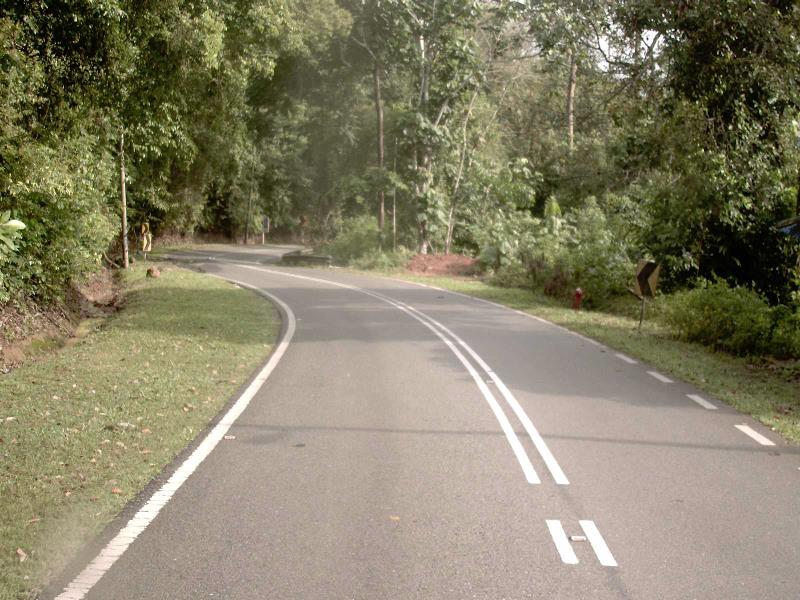traffic_sign: (627, 253, 667, 307)
